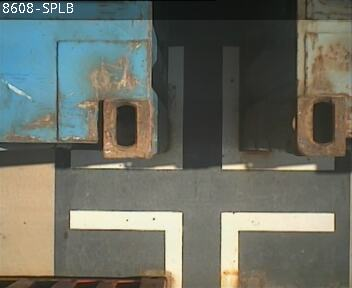groundmarker_1: (69, 46, 333, 169), (70, 209, 334, 288)
